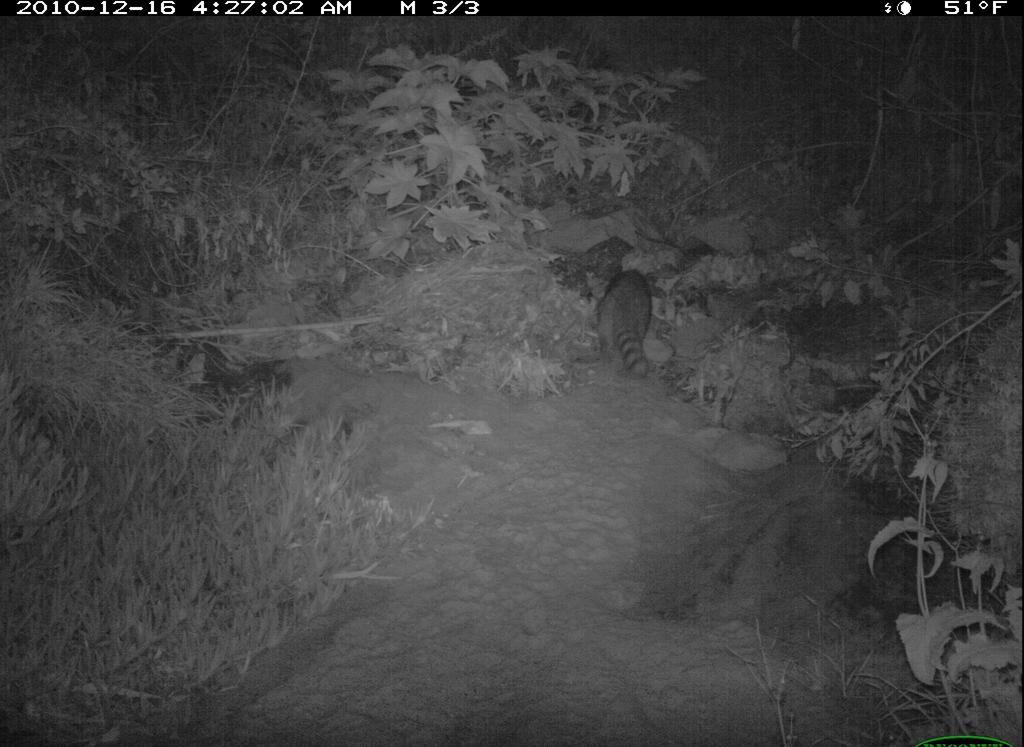raccoon: (591, 255, 665, 391)
